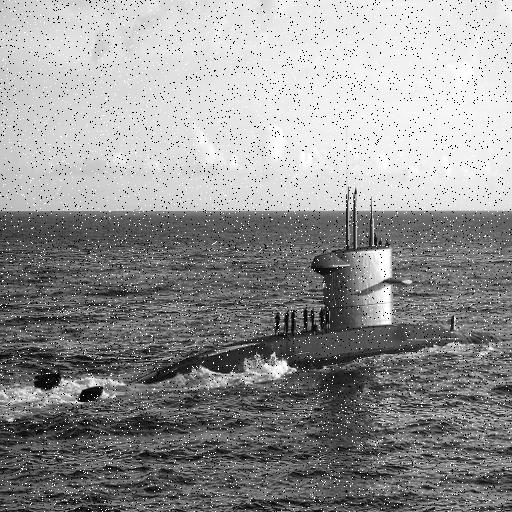submarine: (34, 188, 490, 404)
